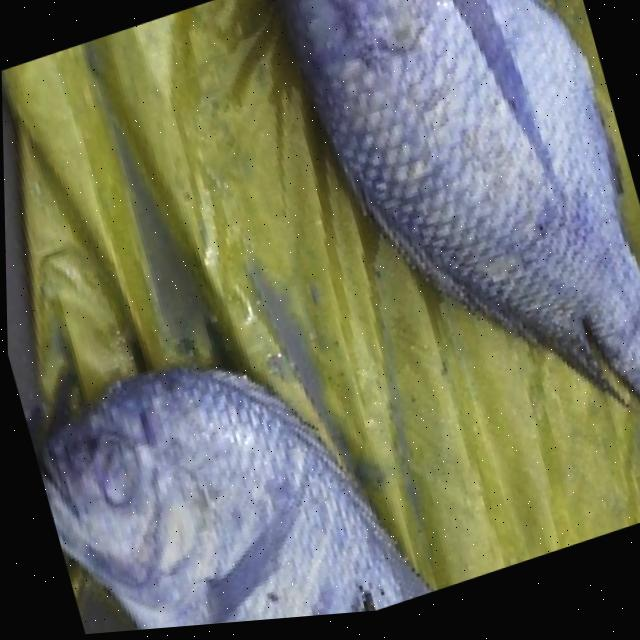Non-Fresh: (270, 0, 640, 407), (19, 311, 387, 639)
